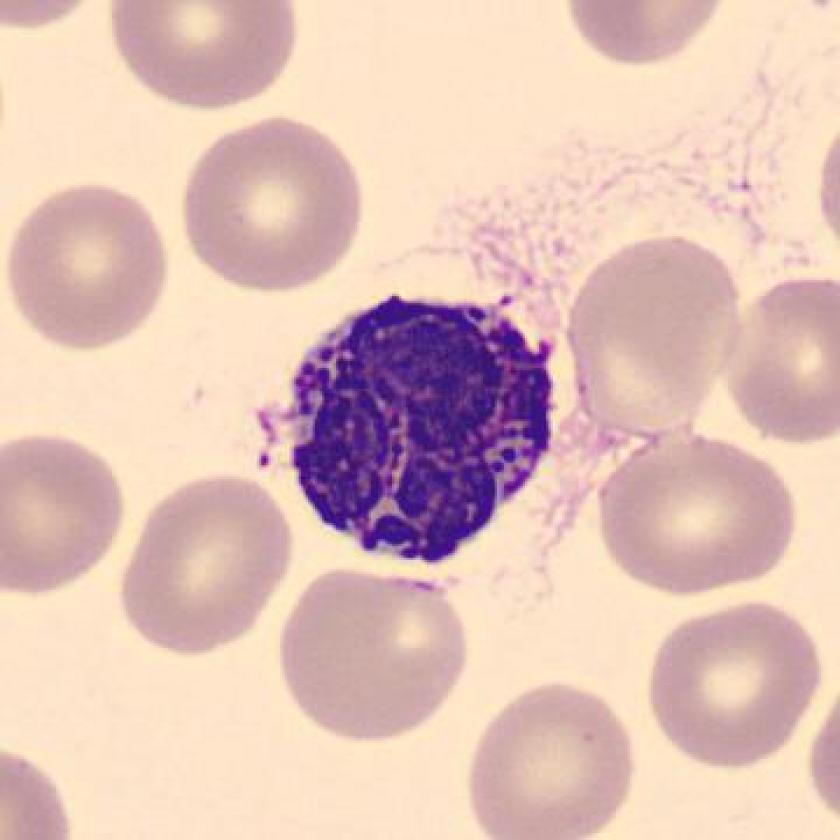basophil: (276, 279, 559, 561)
